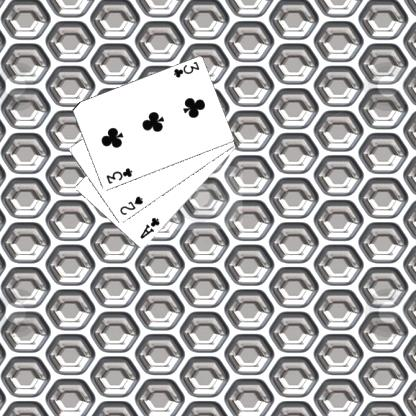2S: (117, 194, 144, 216)
3C: (103, 165, 134, 186), (171, 59, 200, 79)
AC: (137, 215, 161, 240)
